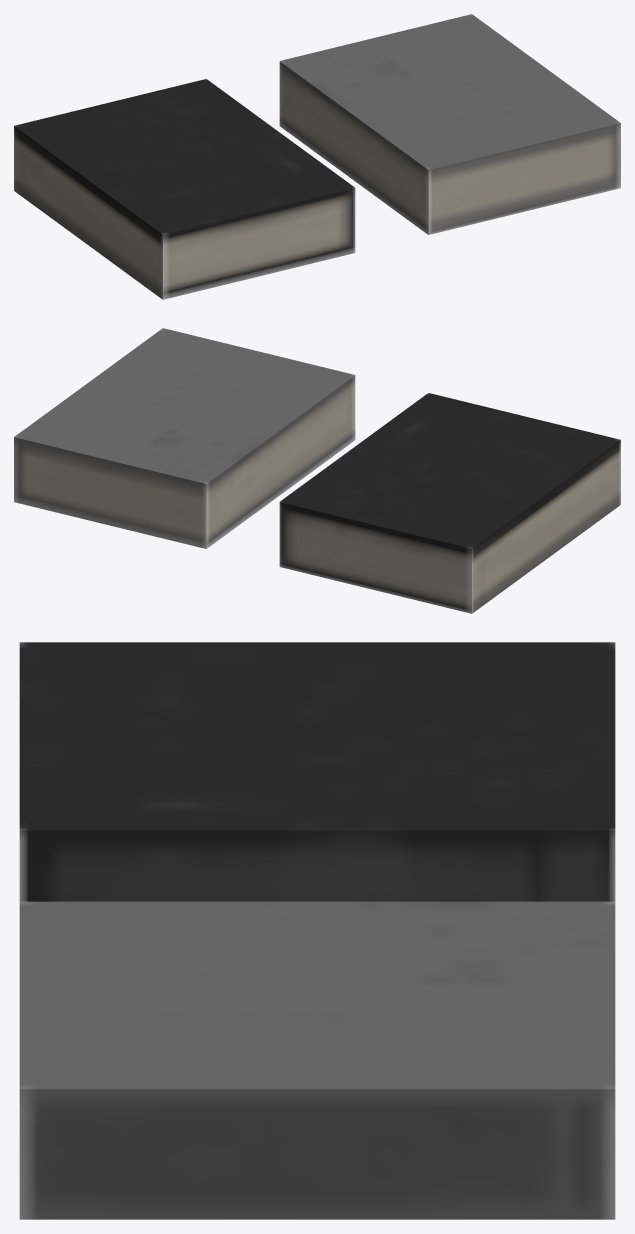
The model's file is books.fbx.
The picture shows the model from 3 angles, top to bottom: view 1: azimuth 30°, elevation 25°; view 2: azimuth 150°, elevation 25°; view 3: azimuth 270°, elevation 25°; orthographic projection. The views are drawn at different scales.
Parts seen in each view (by area): view 1: Book1.001, Book2.001; view 2: Book1.001, Book2.001; view 3: Book1.001, Book2.001.
Part boxes in pixels (bbox=[...]): Book1.001: bbox=[279, 14, 620, 234]; Book2.001: bbox=[14, 79, 355, 299]; Book1.001: bbox=[14, 328, 355, 548]; Book2.001: bbox=[279, 393, 620, 613]; Book1.001: bbox=[19, 901, 615, 1219]; Book2.001: bbox=[19, 642, 615, 901].
Bounding box in the file's own units: 40.03 × 5.43 × 22.55.
